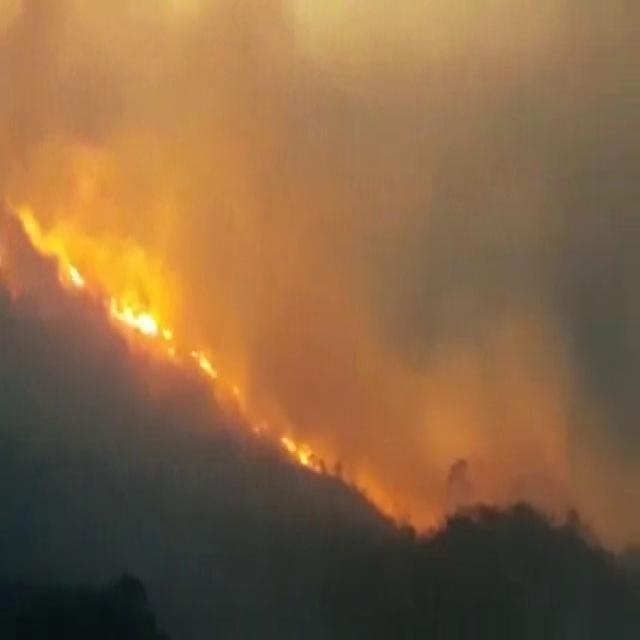Fire: (14, 203, 94, 294), (110, 289, 158, 338), (282, 428, 321, 468), (193, 344, 221, 386)
Smoke: (8, 11, 630, 636), (301, 25, 640, 560), (8, 372, 272, 604)
